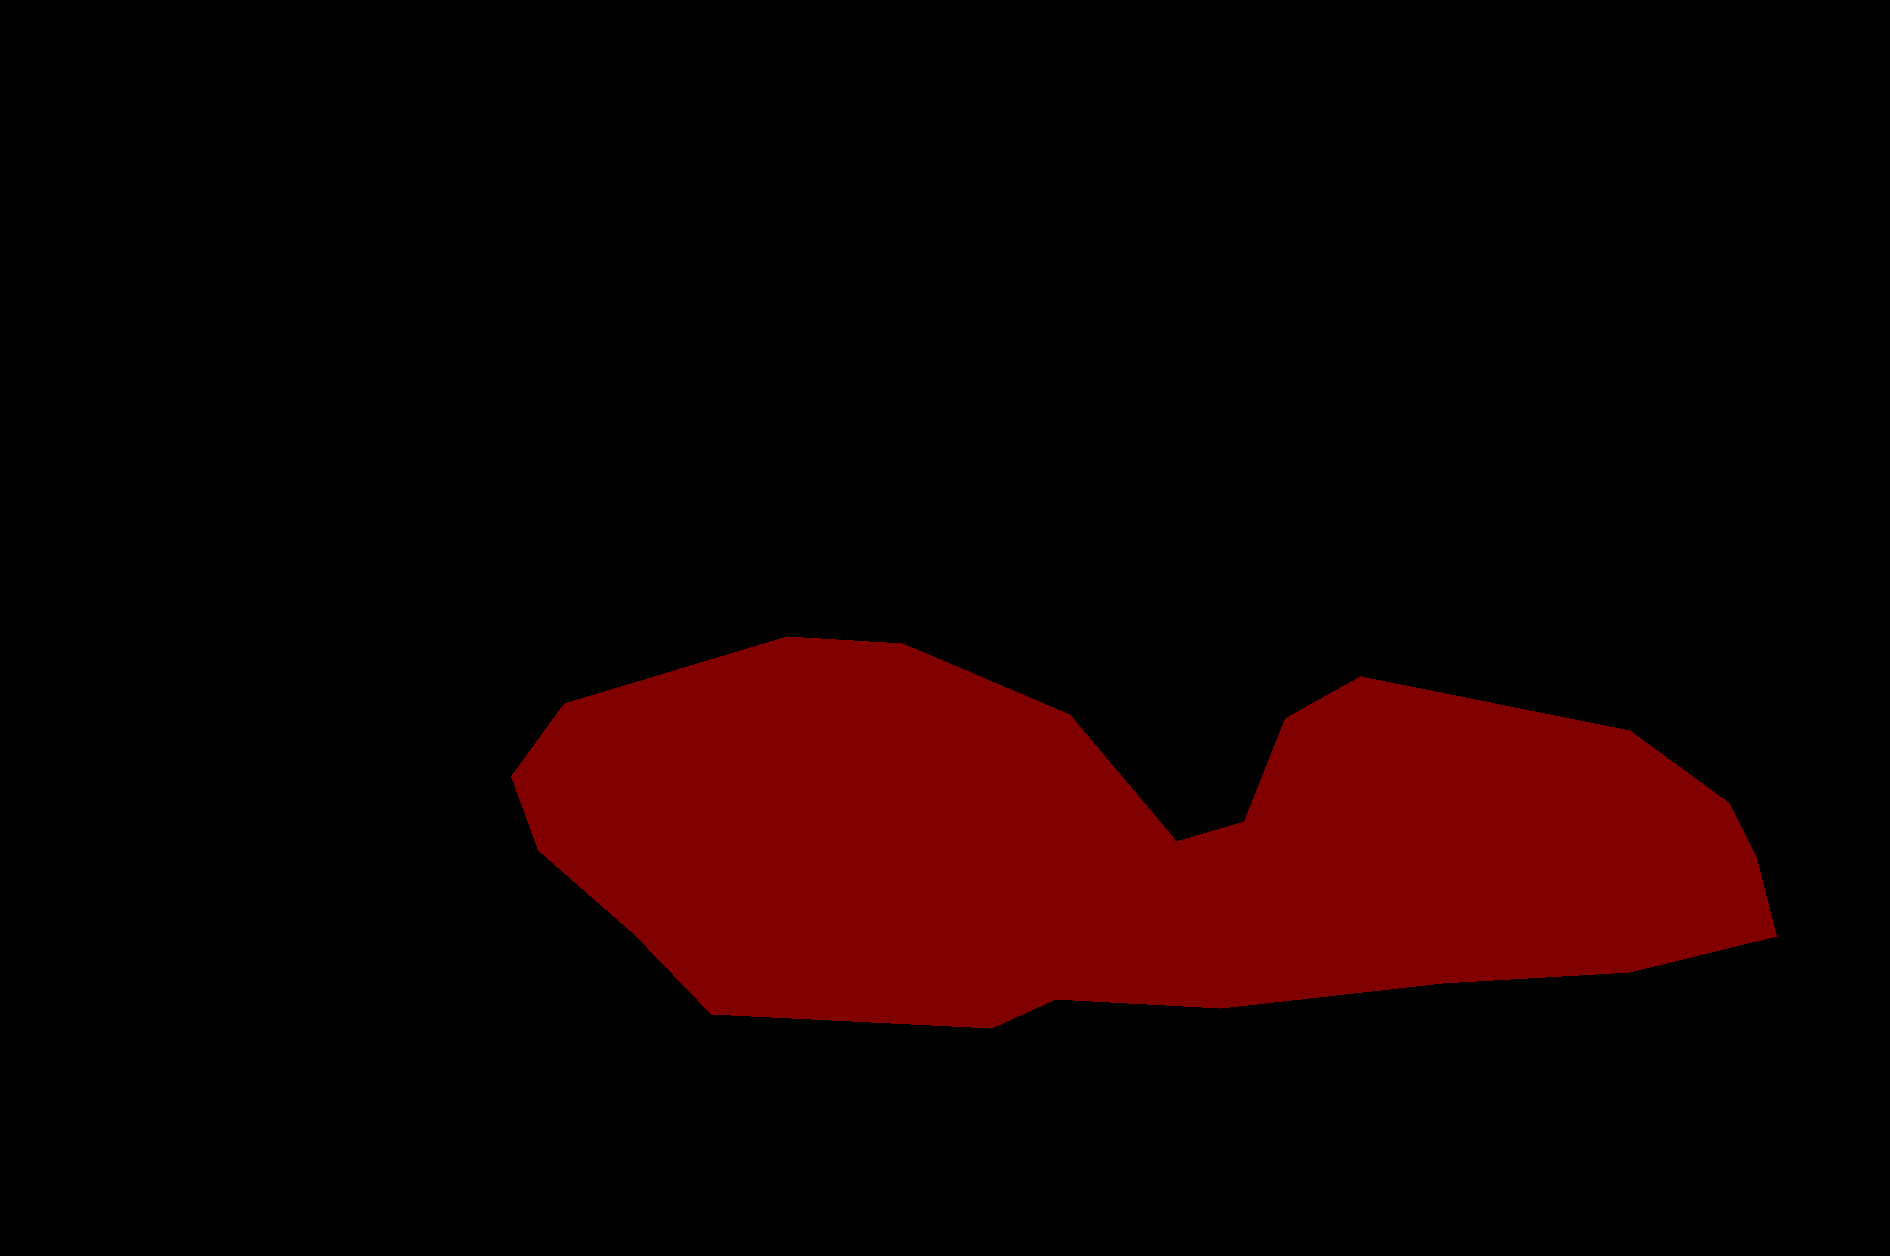fire: (511, 636, 1777, 1028)
